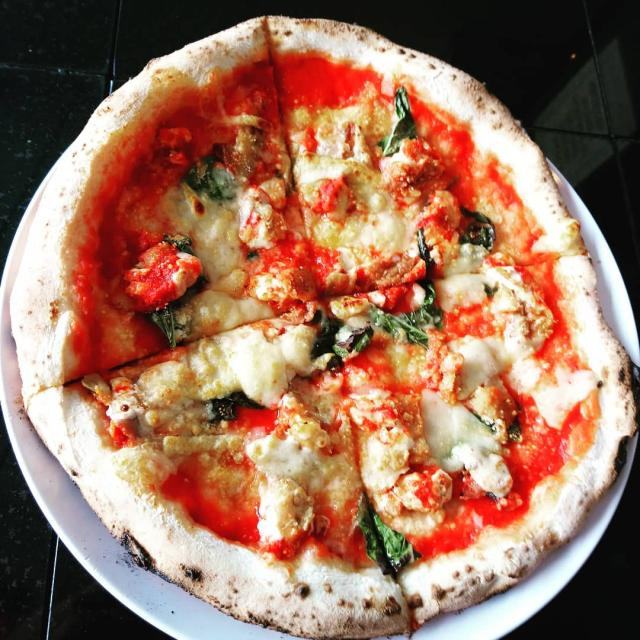basil: (358, 492, 422, 575), (372, 282, 442, 347), (147, 275, 205, 347), (314, 315, 374, 360), (470, 397, 528, 443), (379, 86, 416, 156), (184, 155, 236, 200), (206, 393, 262, 423), (460, 206, 496, 252), (418, 228, 435, 280), (164, 234, 195, 254)
pizza: (13, 17, 635, 639)
